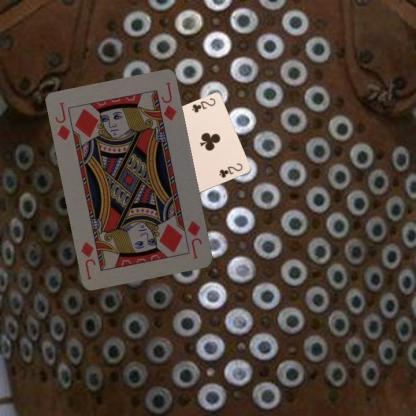2c: (189, 96, 217, 114)
Jd: (185, 217, 204, 261), (53, 100, 72, 142)
